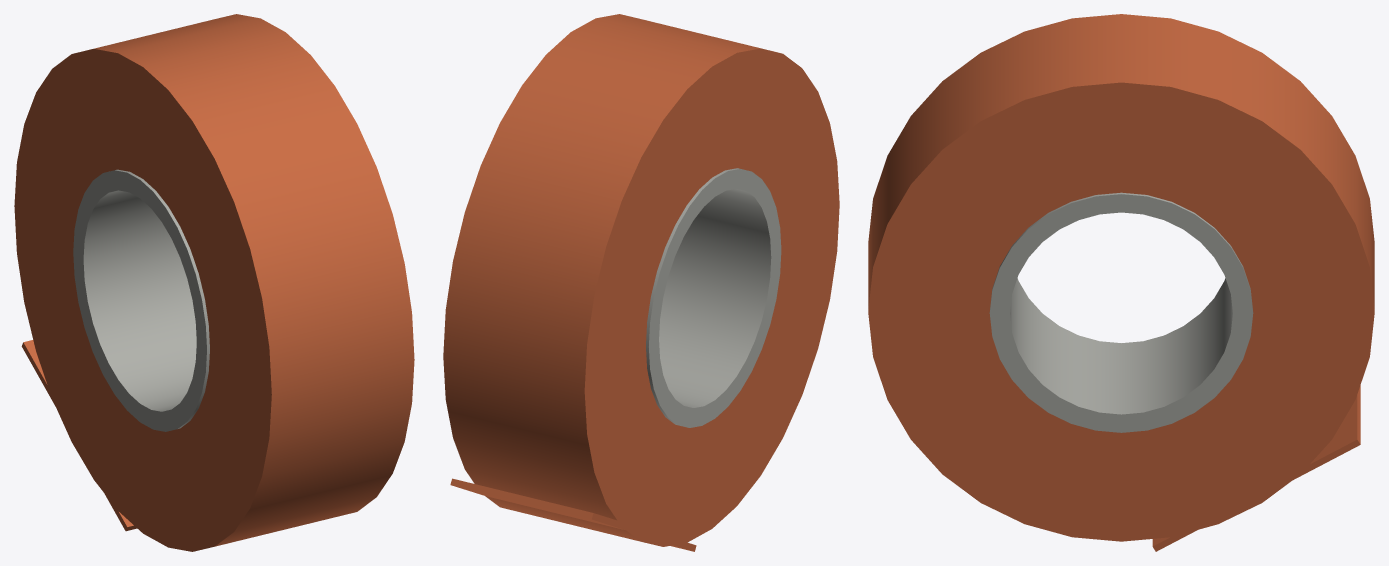
The model's file is tape_gun_tape_hub.glb.
The picture shows the model from 3 angles, left to right: view 1: azimuth 30°, elevation 25°; view 2: azimuth 150°, elevation 25°; view 3: azimuth 270°, elevation 25°; orthographic projection.
Parts seen in each view (by area): view 1: tape_gun_tape_hub; view 2: tape_gun_tape_hub; view 3: tape_gun_tape_hub.
Boxes of the visible parts, x1,y1,x2,y2 form: tape_gun_tape_hub: [14, 14, 414, 551]; tape_gun_tape_hub: [443, 14, 839, 551]; tape_gun_tape_hub: [868, 14, 1374, 551].
Size of the model in its own units: 0.05 by 0.1534 by 0.15.
